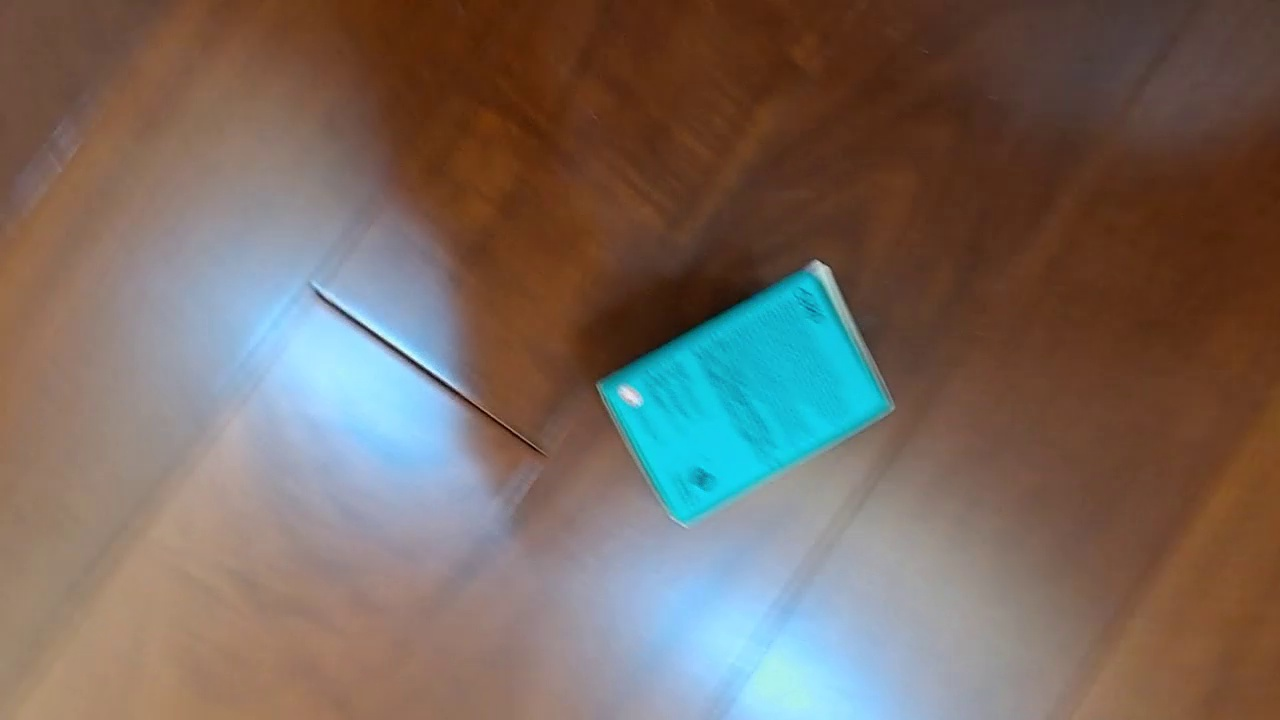webcam: (593, 257, 896, 530)
